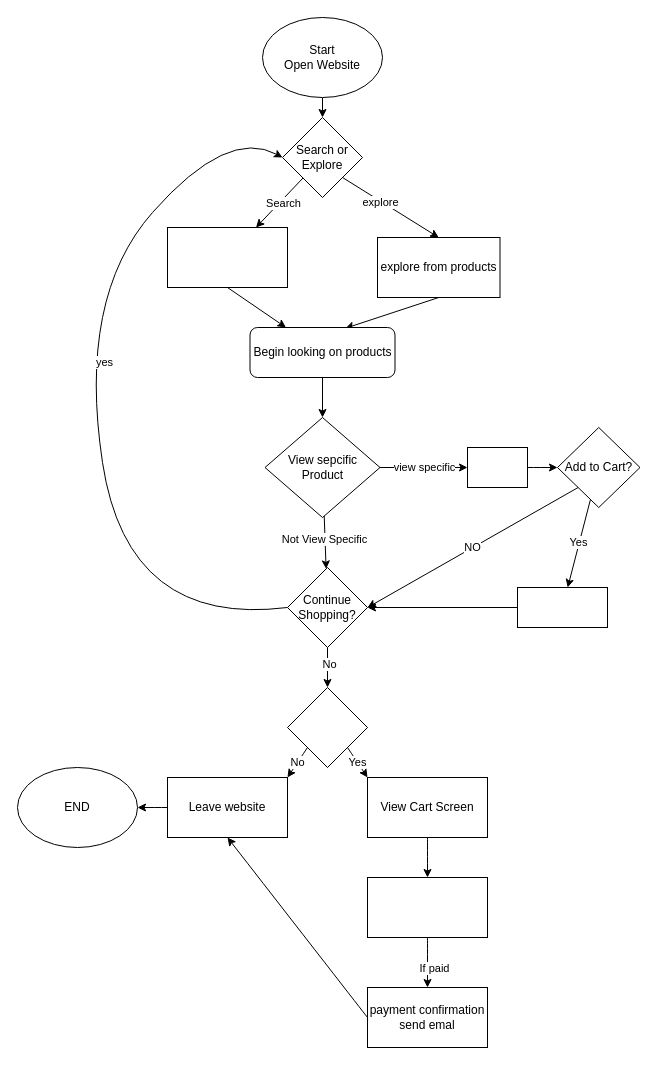
This 658x1065 diagram has some shape labels left out. The centre of each missing label's shape, as x and y in pixels:
"Checkout?" goes at point (327, 727).
"Confirmation" goes at point (562, 607).
"Input from user" goes at point (227, 257).
"input: Payment" goes at point (427, 907).
"Specific Page" goes at point (497, 467).
